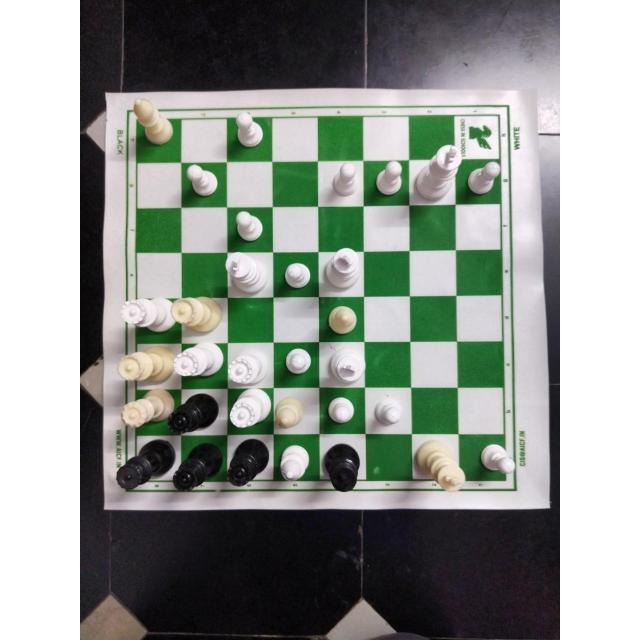black-king: (321, 441, 364, 493)
black-queen: (115, 439, 173, 495), (169, 443, 225, 495), (222, 438, 274, 492), (165, 392, 217, 433)
white-bishop: (128, 95, 176, 144), (322, 300, 361, 344), (278, 441, 314, 486), (274, 392, 310, 433)
white-king: (410, 438, 467, 496), (412, 141, 464, 204), (321, 245, 364, 292), (222, 253, 270, 294), (324, 344, 368, 386)
white-pawn: (474, 441, 517, 479), (370, 157, 406, 202), (232, 109, 266, 151), (183, 164, 221, 200), (229, 210, 267, 246), (326, 392, 361, 428), (467, 159, 501, 196), (327, 161, 359, 199), (279, 347, 316, 379), (370, 395, 405, 428), (281, 260, 317, 291)
white-queen: (115, 346, 177, 385), (171, 339, 227, 381), (117, 297, 177, 335), (117, 388, 173, 427), (169, 296, 225, 334), (229, 389, 273, 432), (226, 350, 274, 388)
